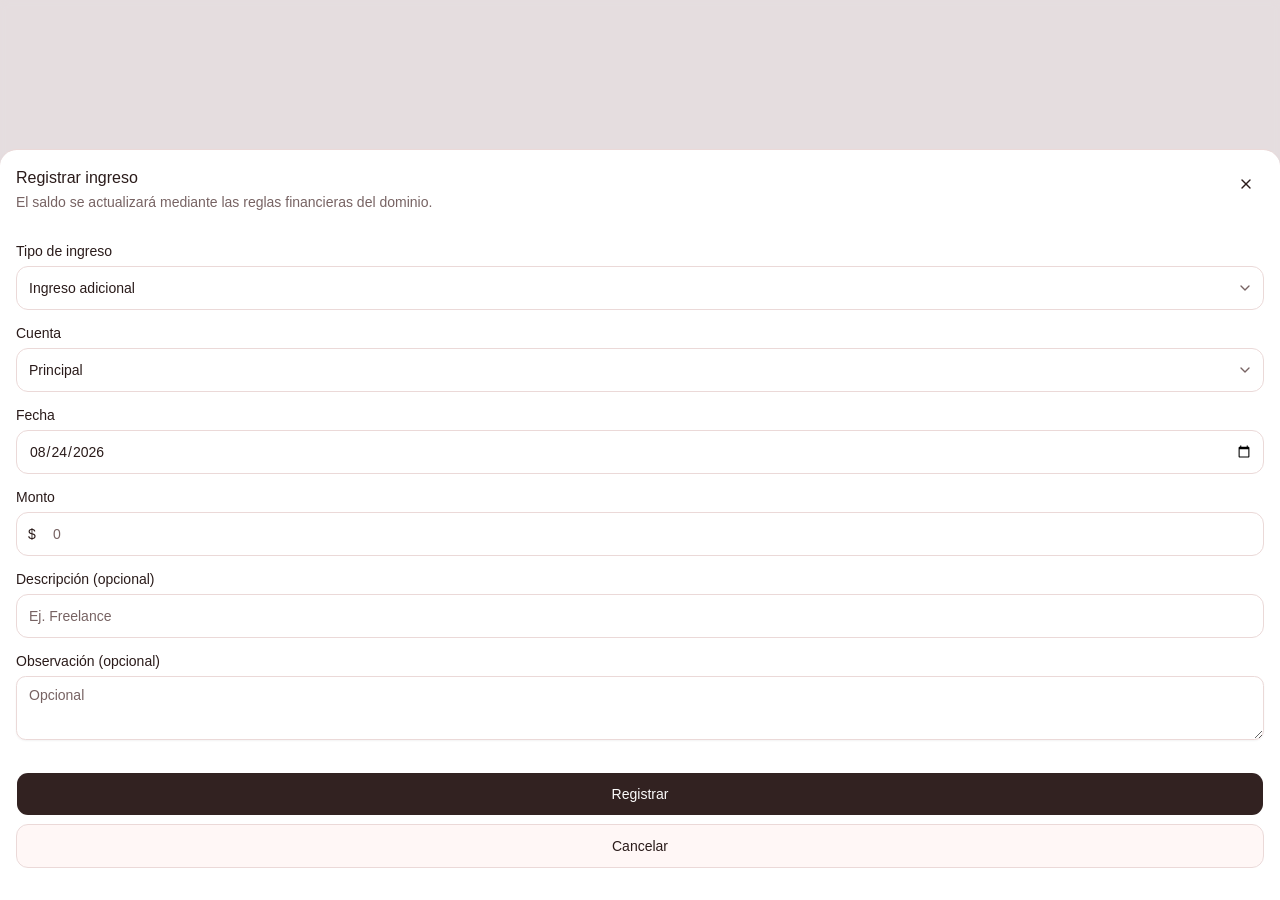
Test: MovementForm C2 infrastructure › hides extra fields for salary and does not autofocus on open
What coordinates should you click on to do the following:
click the dropdown named "Tipo de ingreso"
I would click on:
 (82, 288)
Its box is x1=16 y1=266 x2=1264 y2=310.
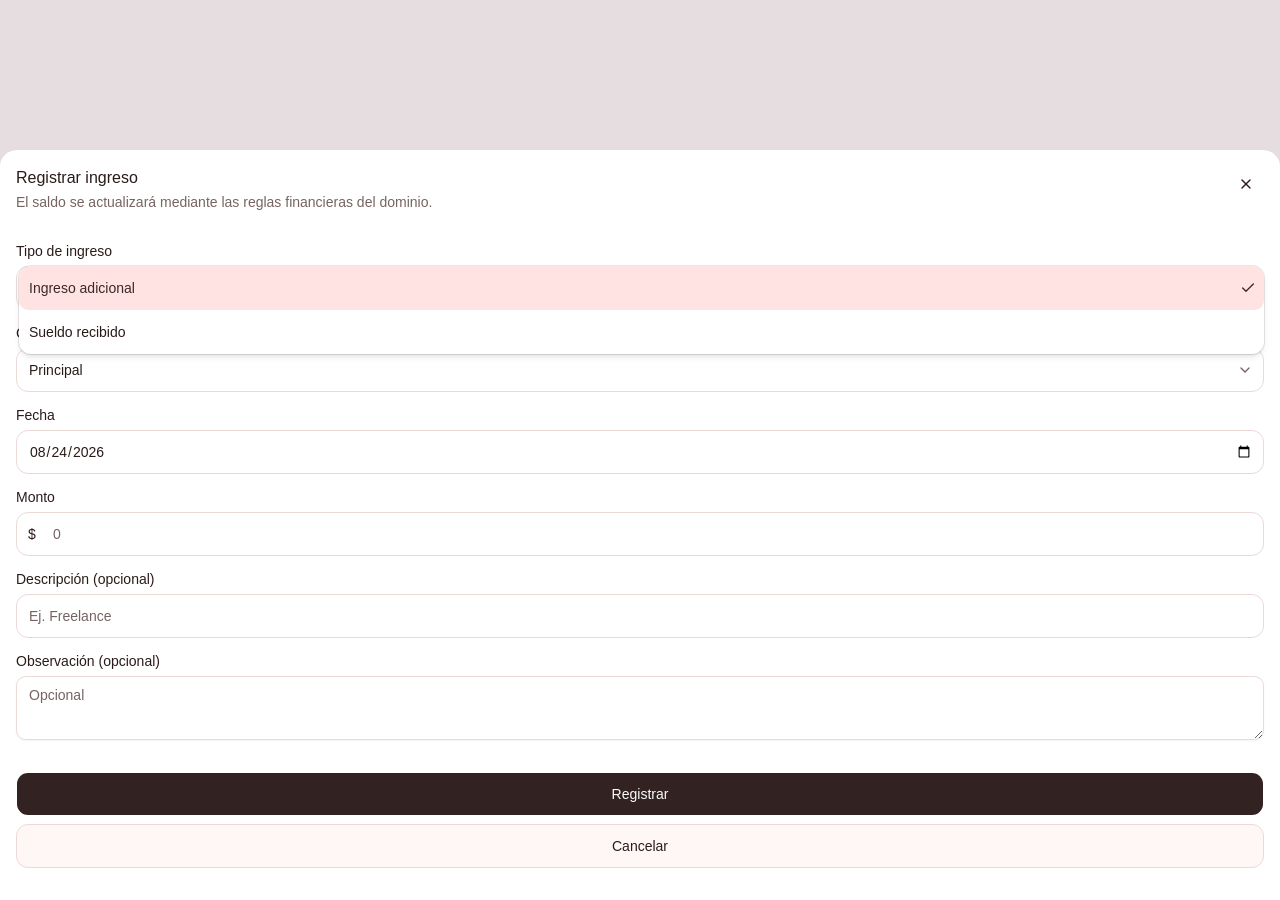
What coordinates should you click on to do the following:
click the option "Sueldo recibido"
I would click on:
 (77, 332)
Its box is x1=29 y1=324 x2=126 y2=340.
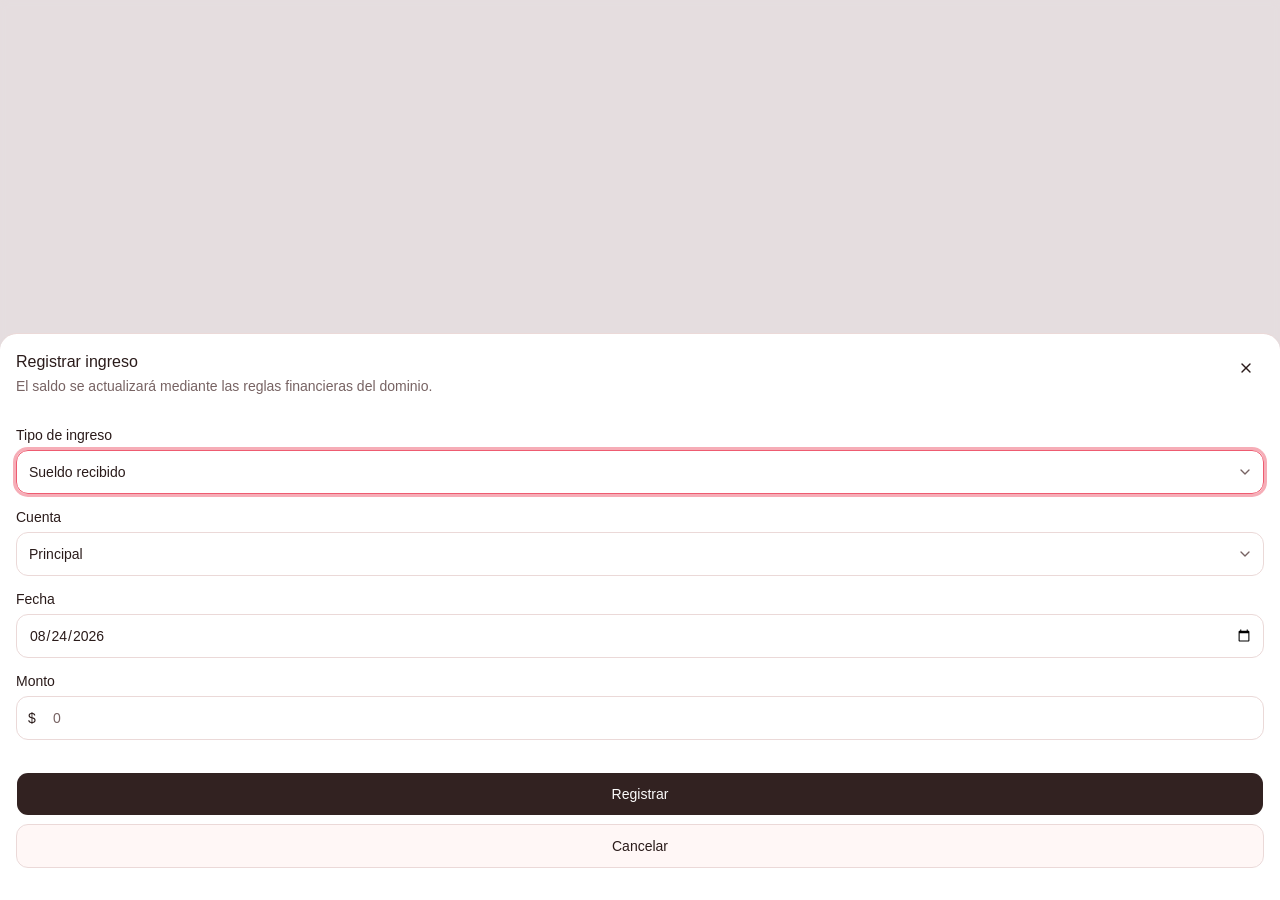
Expected: the dropdown named "Cuenta" is shown, x1=16 y1=532 x2=1264 y2=576
Expected: the label labelled "Descripción" is gone
Expected: the label labelled "Observación" is gone
